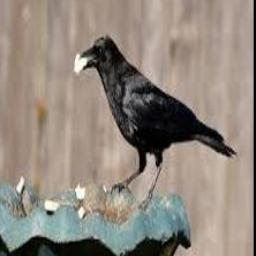Crow: (75, 34, 238, 208)
